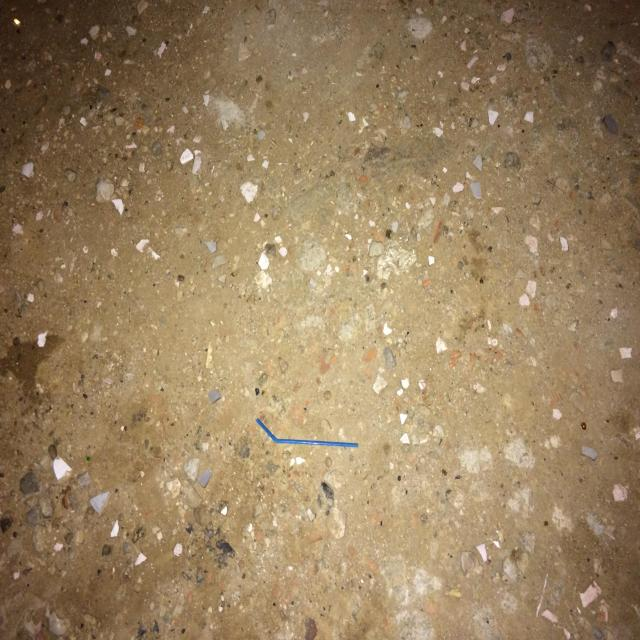Straw: (256, 418, 358, 447)
